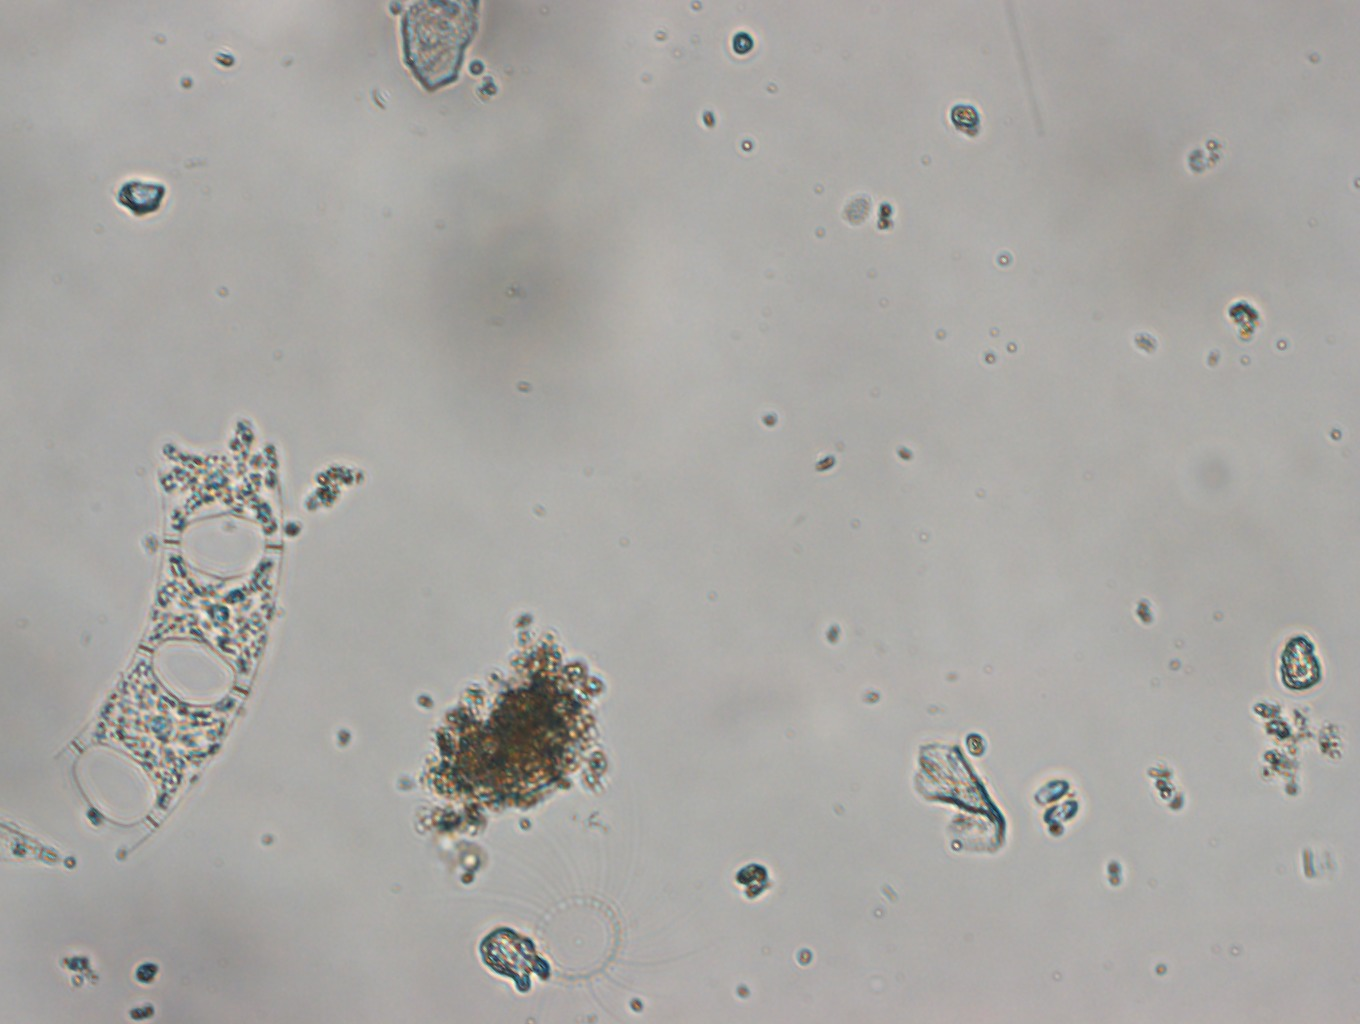eucampia: (66, 406, 285, 856)
